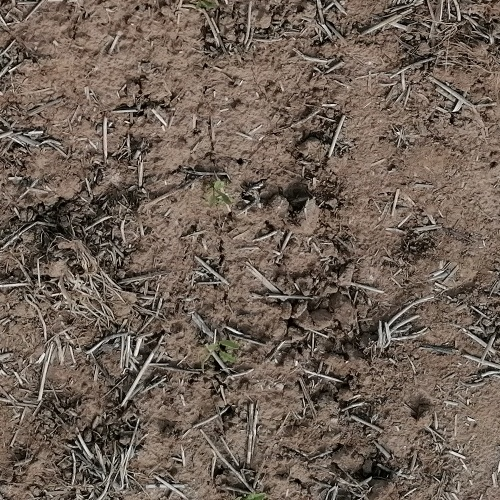beet: (213, 337, 240, 365), (208, 180, 232, 205)
